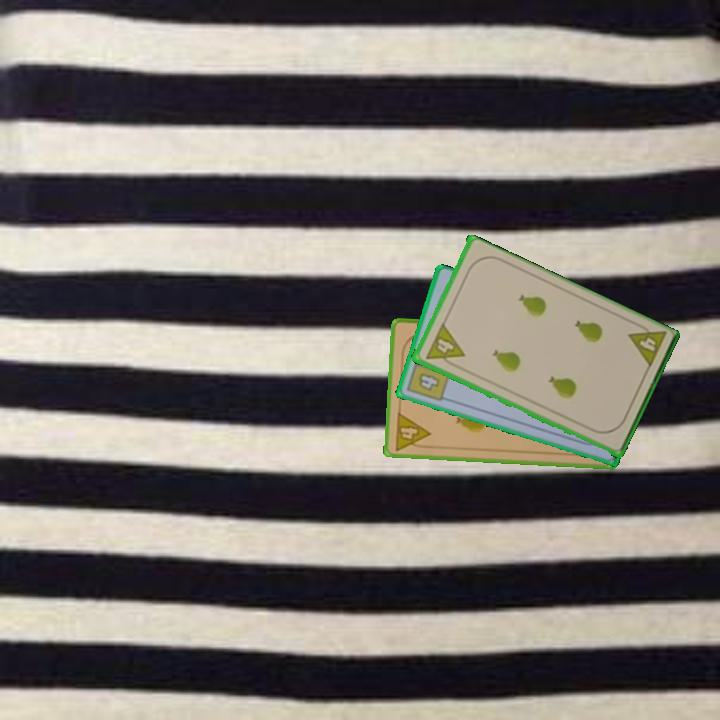4b: (404, 353, 452, 405)
4p: (624, 318, 669, 372), (422, 321, 467, 371), (391, 409, 433, 453)
